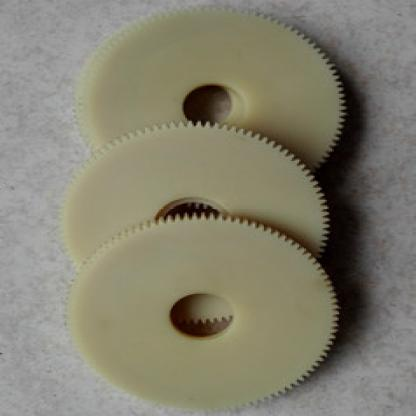FOD: (55, 119, 330, 327), (61, 213, 344, 415), (71, 3, 347, 175)
